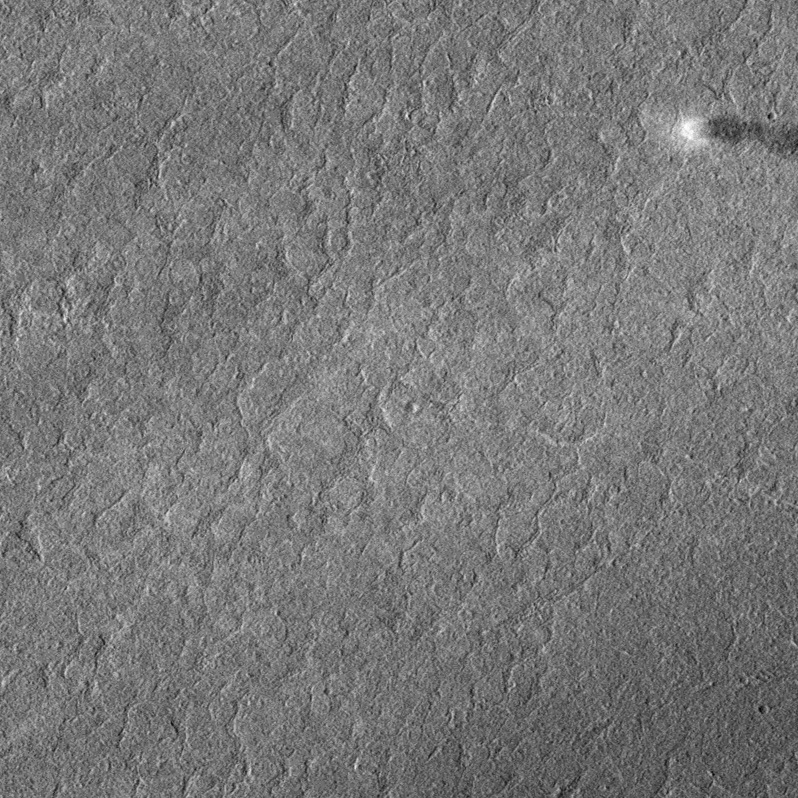dust_devil: (677, 111, 798, 165)
